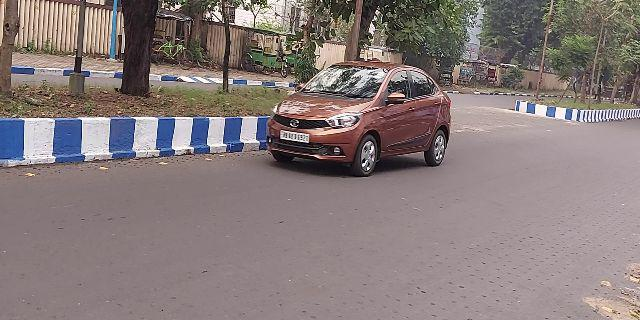Car: (266, 66, 457, 175)
